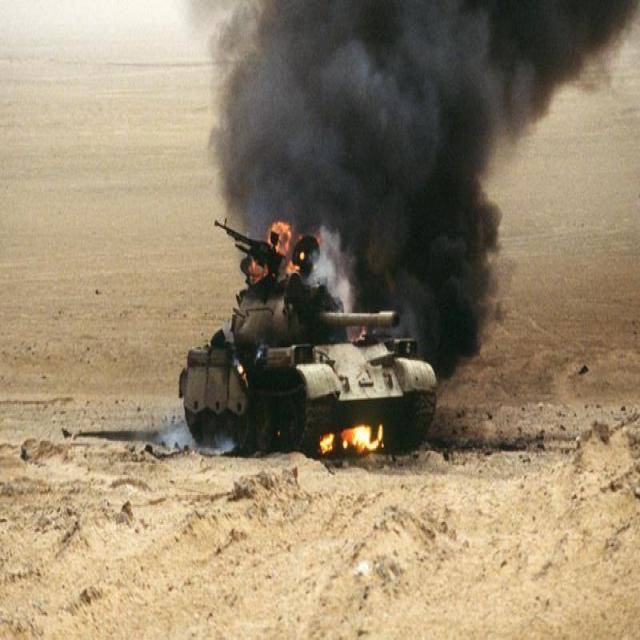Tanks: (184, 193, 430, 472)
